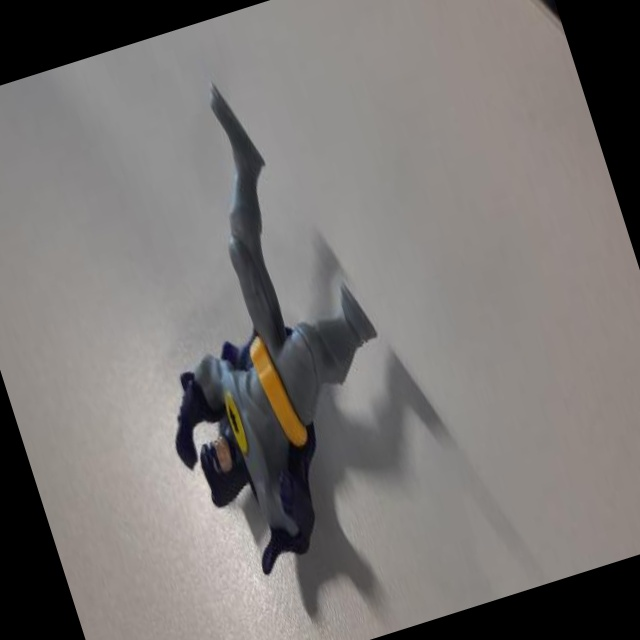Batman: (72, 52, 440, 595)
